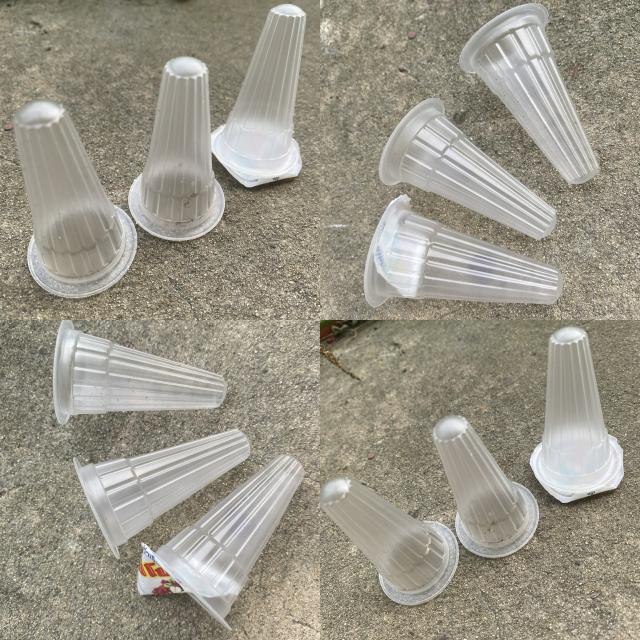Single-Use-Plastic: (156, 455, 304, 629), (460, 4, 599, 184), (379, 98, 556, 239), (14, 100, 138, 298), (74, 430, 250, 558), (364, 196, 564, 306), (52, 320, 226, 424), (320, 476, 459, 604), (129, 56, 225, 241), (211, 4, 306, 188), (530, 328, 624, 502), (432, 415, 539, 558)
